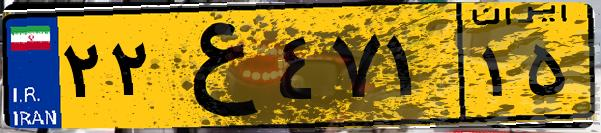1: (385, 28, 445, 110), (475, 38, 525, 113)
2: (57, 26, 110, 100), (110, 28, 158, 98)
4: (270, 28, 330, 110)
5: (525, 38, 570, 115)
7: (330, 28, 385, 110)
ع: (158, 12, 270, 120)
